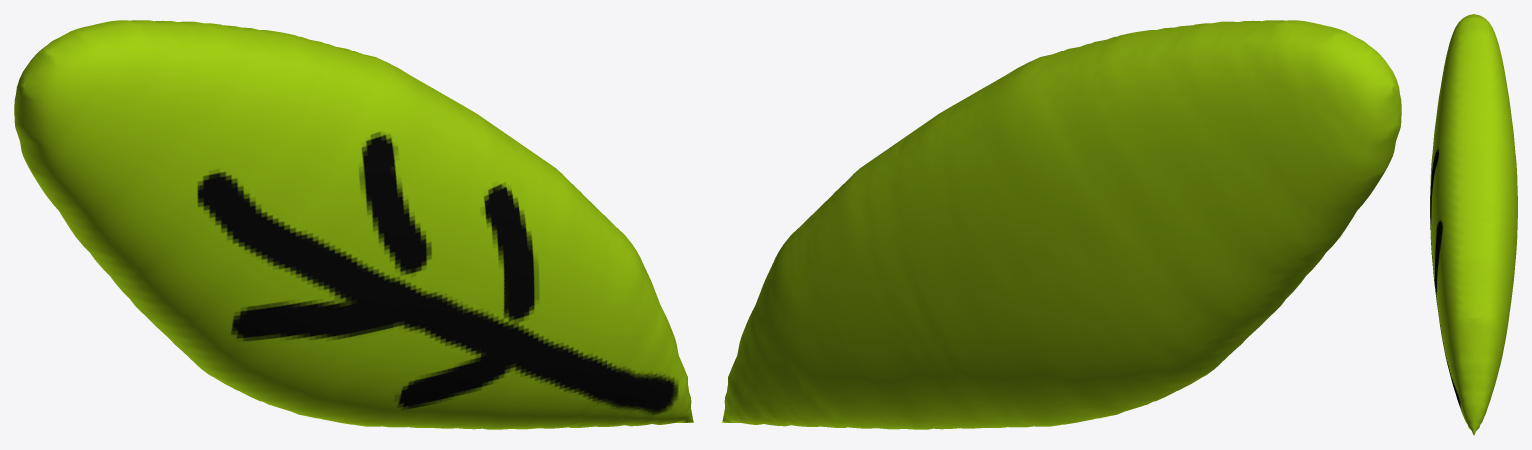
File: single leaf.fbx
3 renders of one model, left to right at view 1: azimuth 30°, elevation 25°; view 2: azimuth 150°, elevation 25°; view 3: azimuth 270°, elevation 25°, orthographic. The views are drawn at different scales.
Visible parts, largest first — view 1: root; view 2: root; view 3: root.
Part boxes in pixels (x1,y1,x2,y2): root: (14, 20, 693, 429); root: (722, 20, 1401, 429); root: (1430, 14, 1517, 435).
Size of the model in its own units: 0.0998 by 0.0762 by 0.0225.
1 material, 1 textured.
